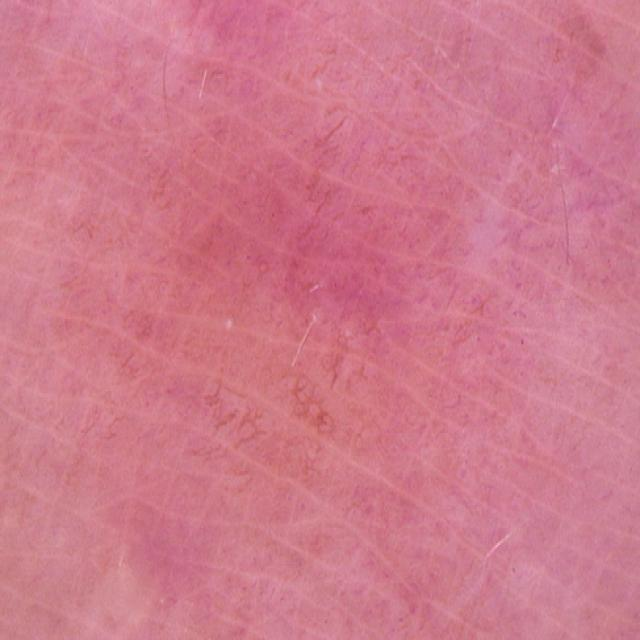Dermatofibroma: (100, 68, 533, 327), (109, 457, 240, 633)
